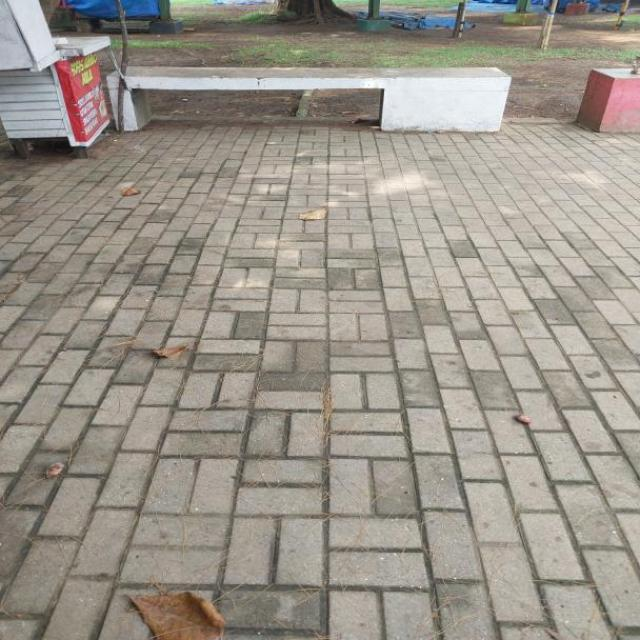bench ahead at: (110, 60, 516, 132)
